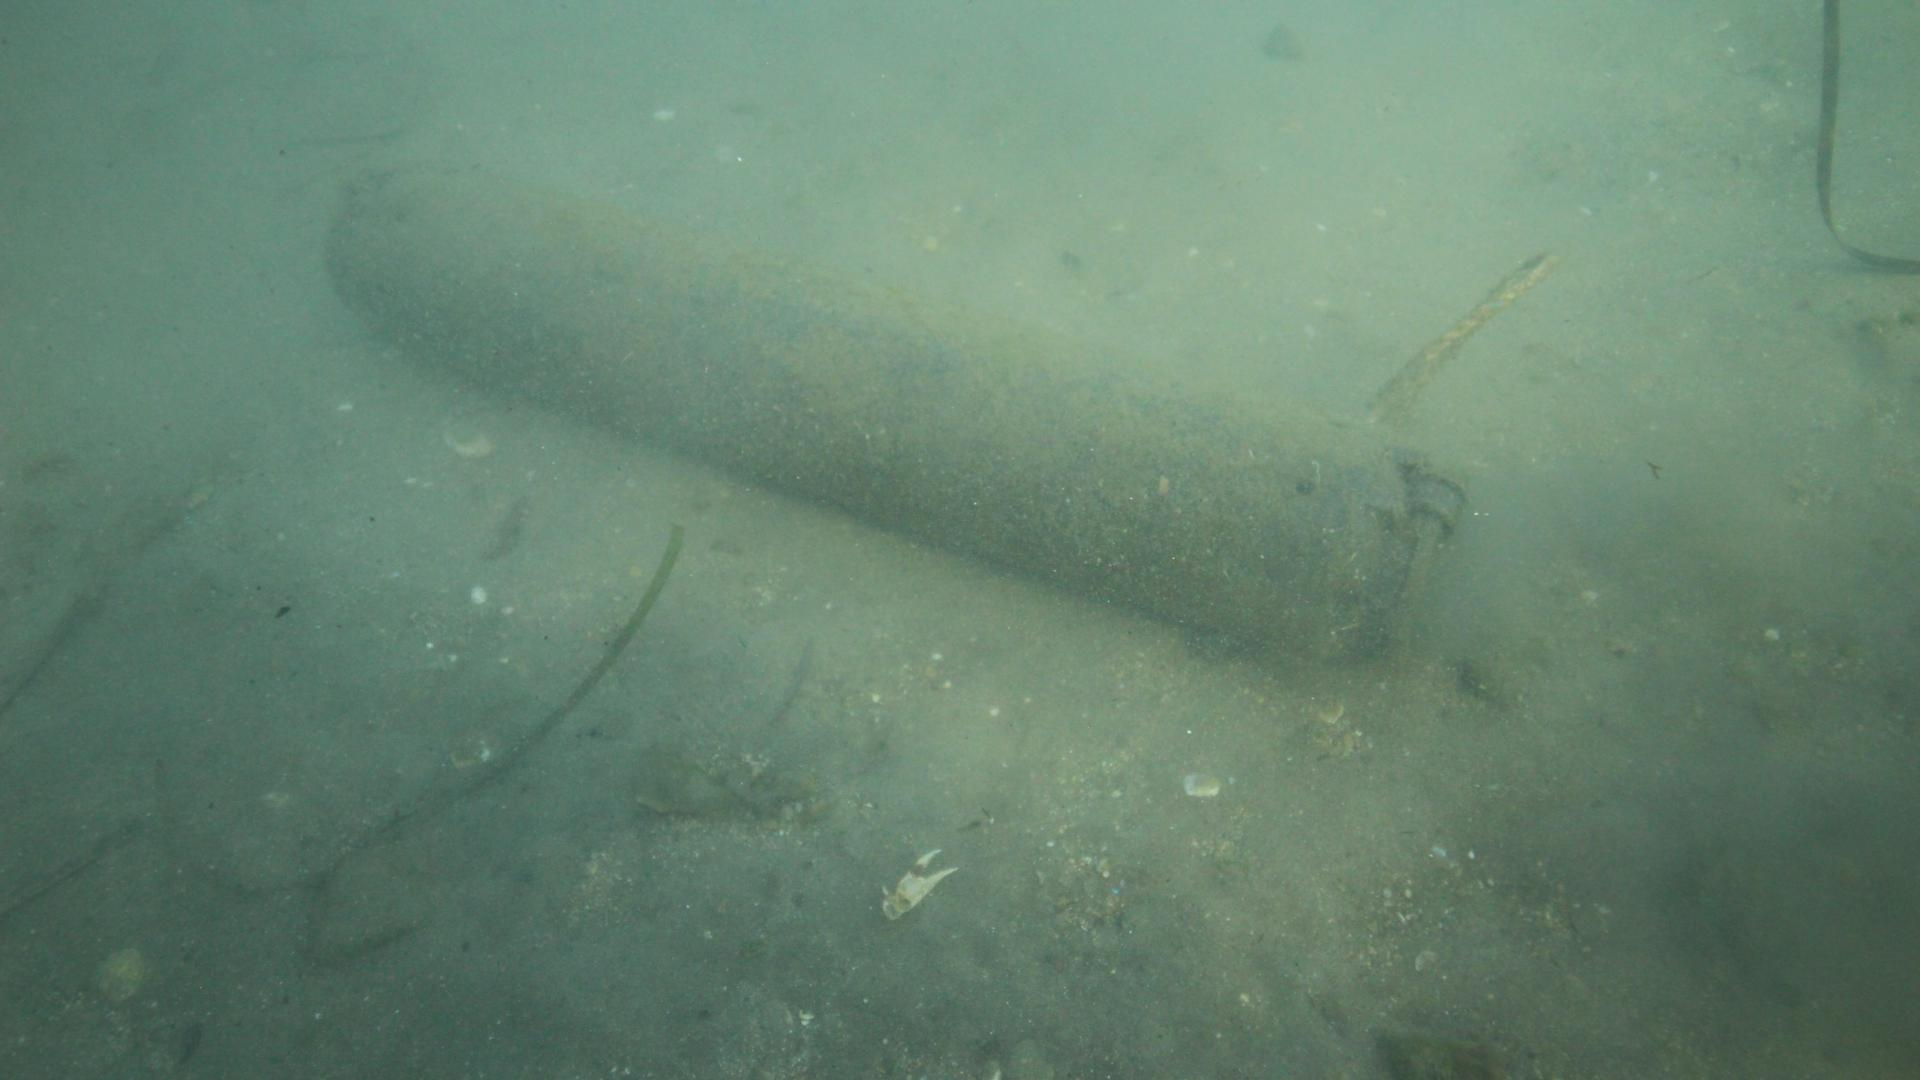eel fish trap: (320, 165, 1470, 674)
rope: (1374, 243, 1560, 418)
